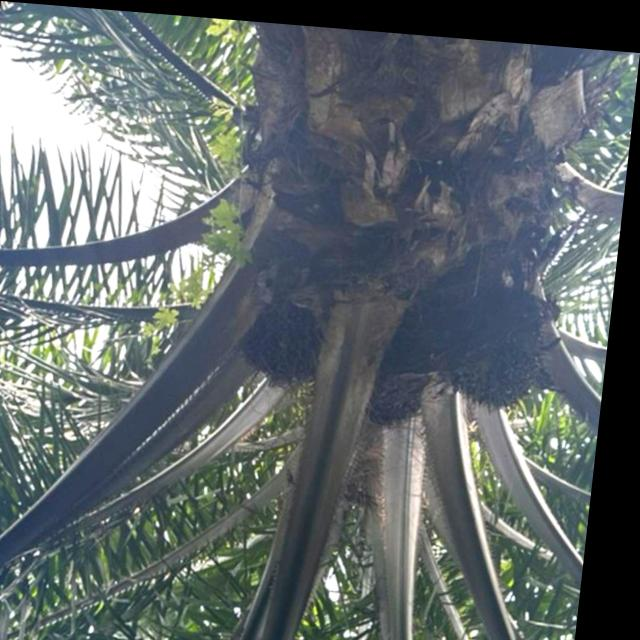almost: (450, 284, 560, 407), (236, 301, 330, 386), (370, 347, 438, 420)
